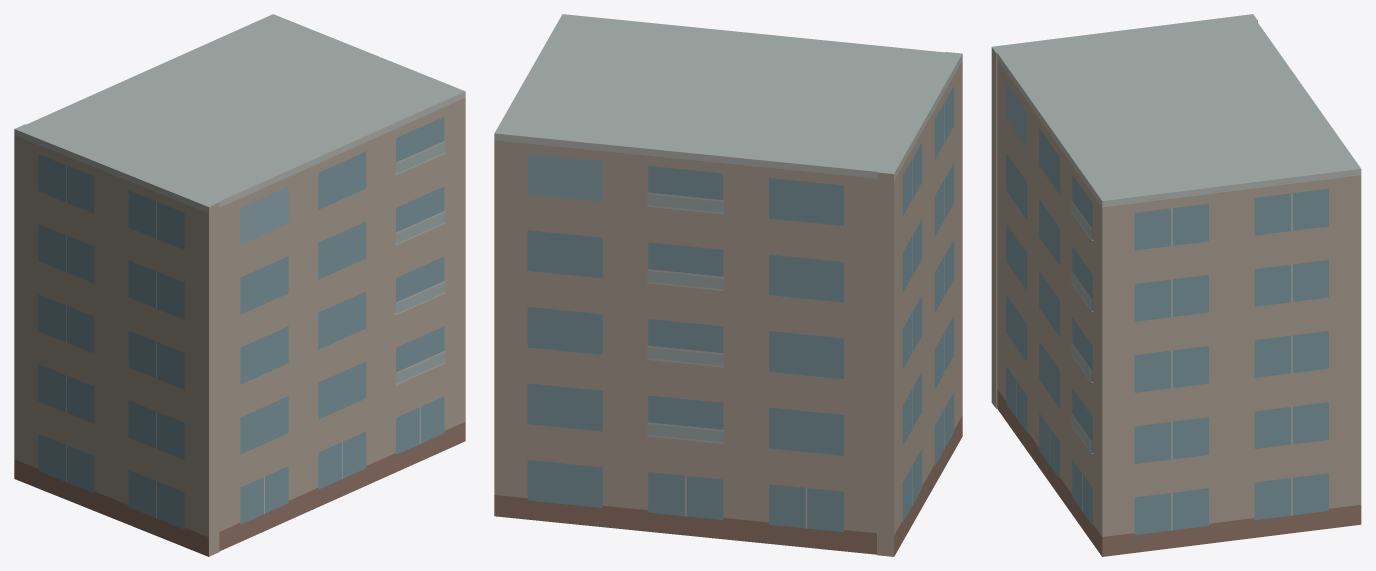
Rendered from survey-upis-32886769.glb.
The picture shows the model from 3 angles, left to right: view 1: azimuth 30°, elevation 25°; view 2: azimuth 150°, elevation 25°; view 3: azimuth 270°, elevation 25°; orthographic projection. The views are drawn at different scales.
Parts seen in each view (by area): view 1: survey-upis-32886769.tmp; view 2: survey-upis-32886769.tmp; view 3: survey-upis-32886769.tmp.
Part boxes in pixels (bbox=[...]): survey-upis-32886769.tmp: bbox=[14, 14, 465, 556]; survey-upis-32886769.tmp: bbox=[494, 14, 962, 556]; survey-upis-32886769.tmp: bbox=[991, 14, 1361, 556].
Size of the model in its own units: 15.47 by 13.7 by 12.92.
